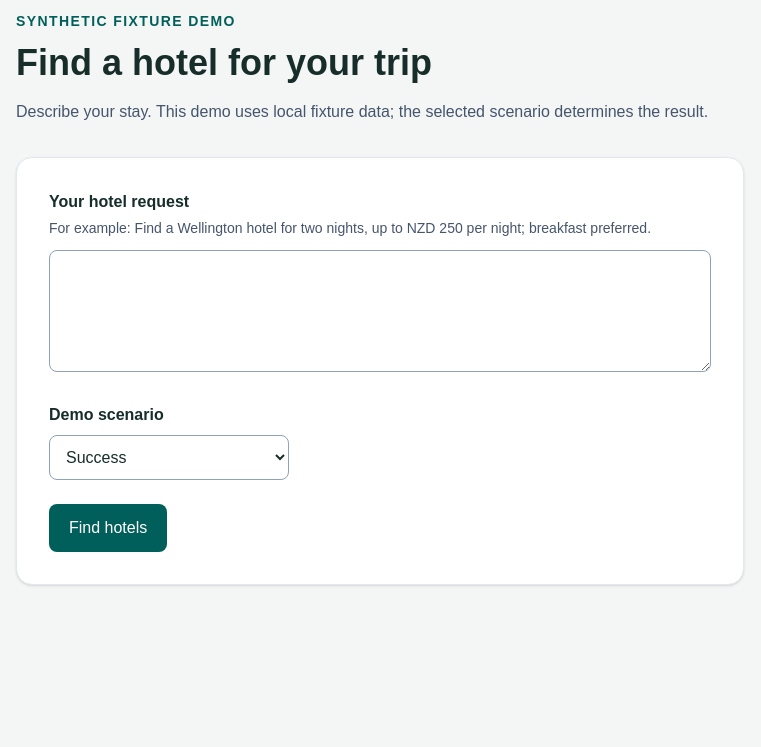
it: recommendation request journey › renders the assistant message and a clear empty state
The image size is (761, 747).
In the text box labelled "Your hotel request": x=380, y=311 [49,250,711,372], type "Find a Wellington hotel for two nights."
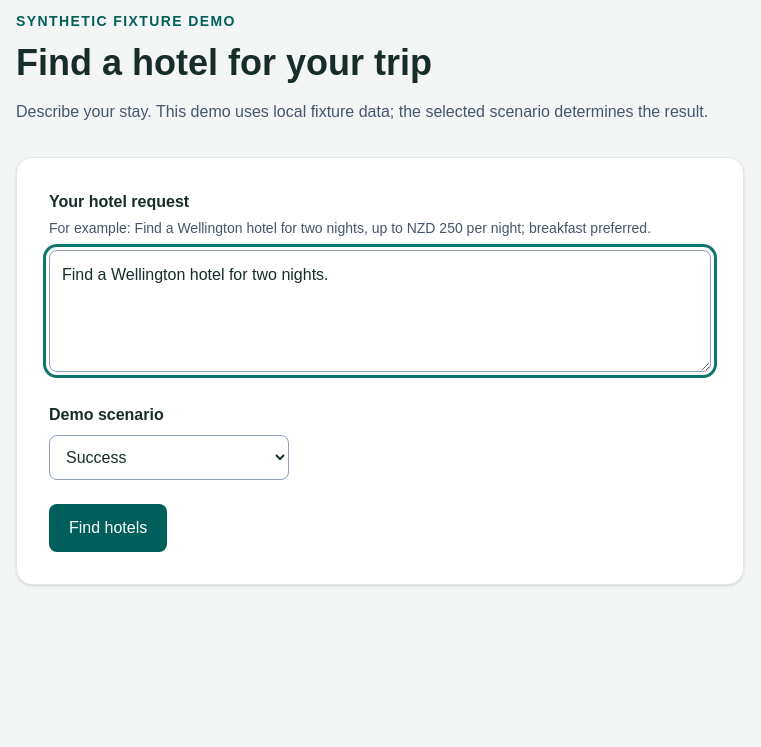
Select "Empty" in the dropdown labelled "Demo scenario": x=169, y=458 [49,435,289,480]
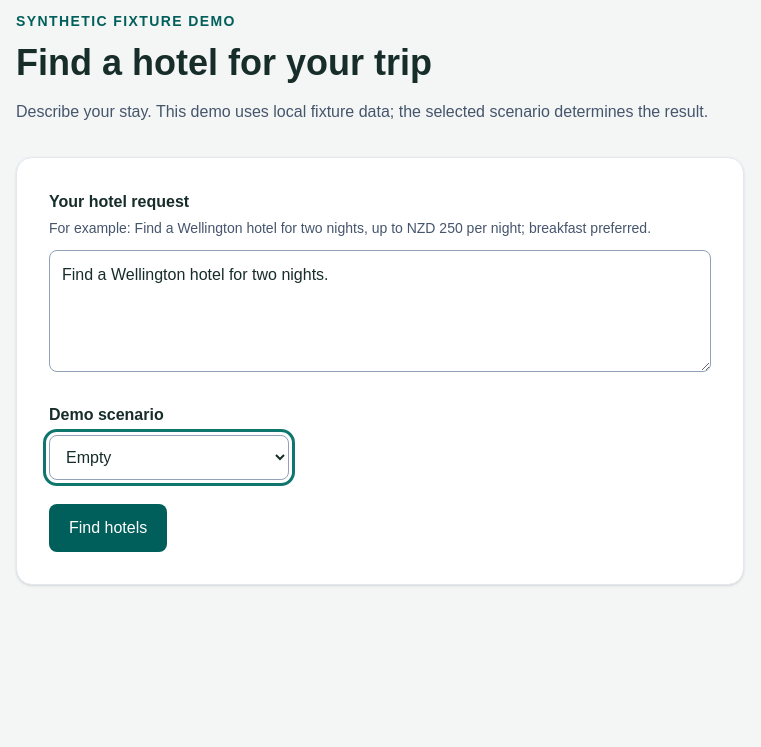
Click the button "Find hotels": x=108, y=528 [49,504,167,552]
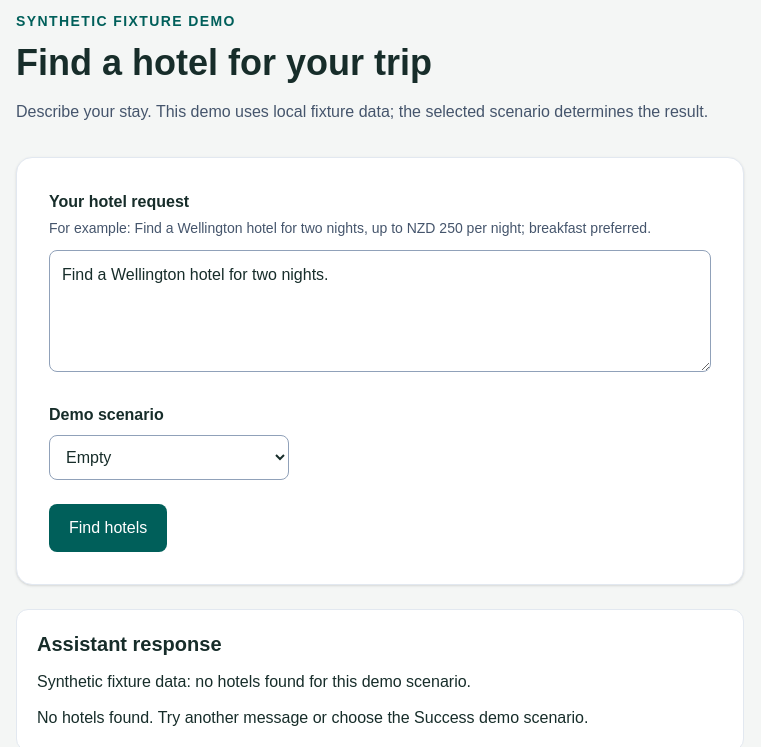
Expected: the text "Synthetic fixture data: no hotels found for this demo scenario." is shown, [37,673,471,690]
Expected: the text "No hotels found. Try" is shown, [37,709,588,726]
